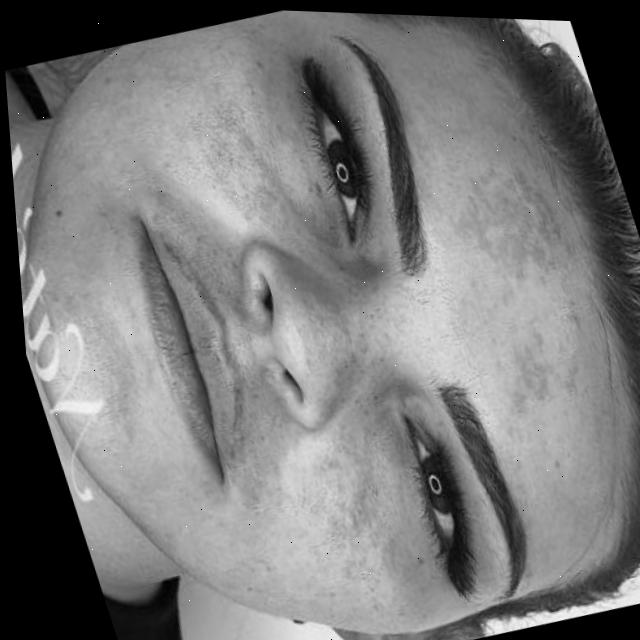Melasma: (428, 155, 621, 440), (175, 75, 358, 315), (275, 400, 457, 640)
